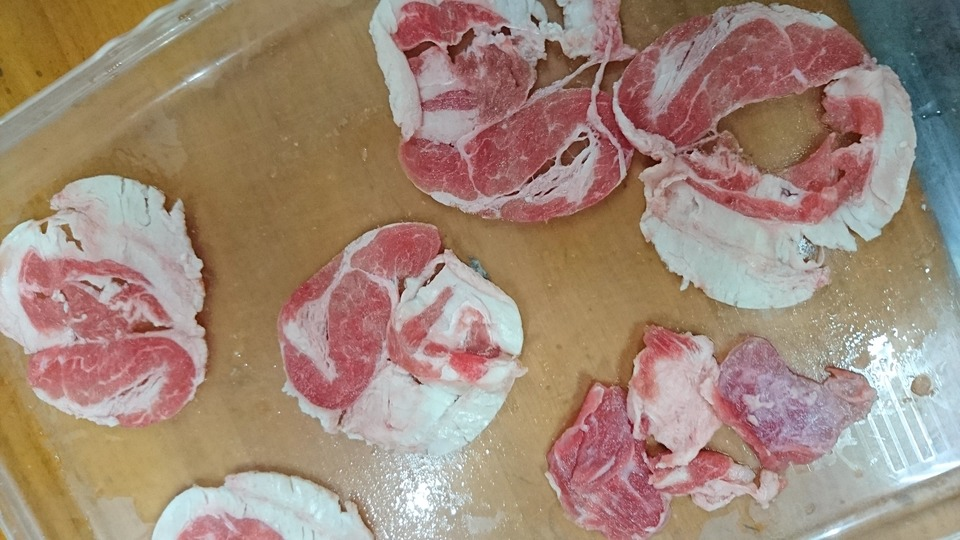restructured meat: (616, 1, 914, 309), (547, 321, 888, 533), (279, 214, 527, 456), (372, 1, 632, 222), (1, 180, 212, 426)
